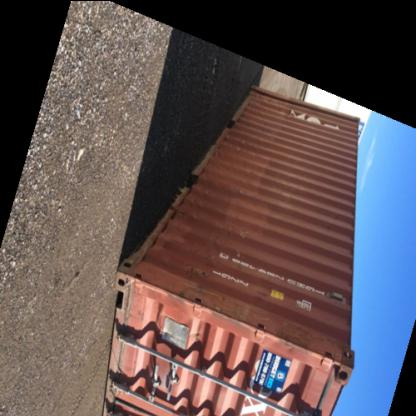Damage: (280, 314, 320, 358), (116, 266, 144, 320), (209, 291, 254, 322), (178, 273, 210, 316), (322, 330, 352, 362), (252, 304, 282, 336), (223, 228, 258, 246), (187, 263, 217, 281), (232, 182, 252, 198)
